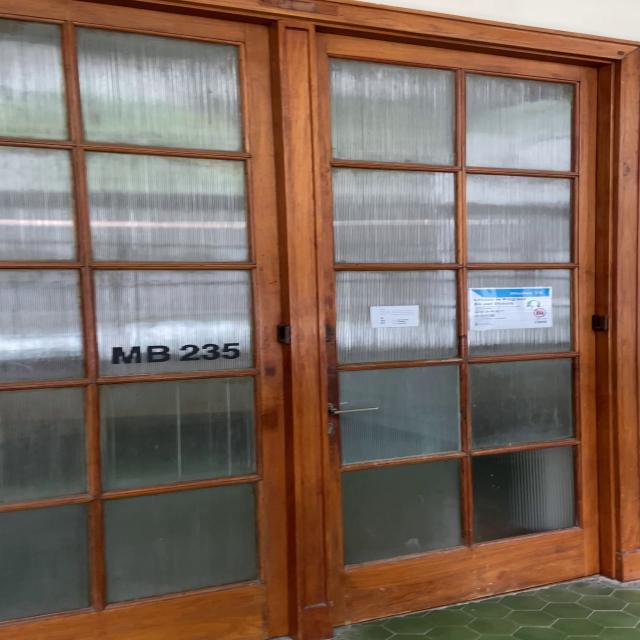room235Window: (104, 338, 247, 367)
